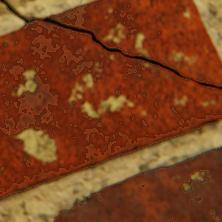broken_brick: (0, 20, 221, 196), (43, 0, 221, 85), (52, 145, 221, 221)
crack: (0, 0, 221, 89)
